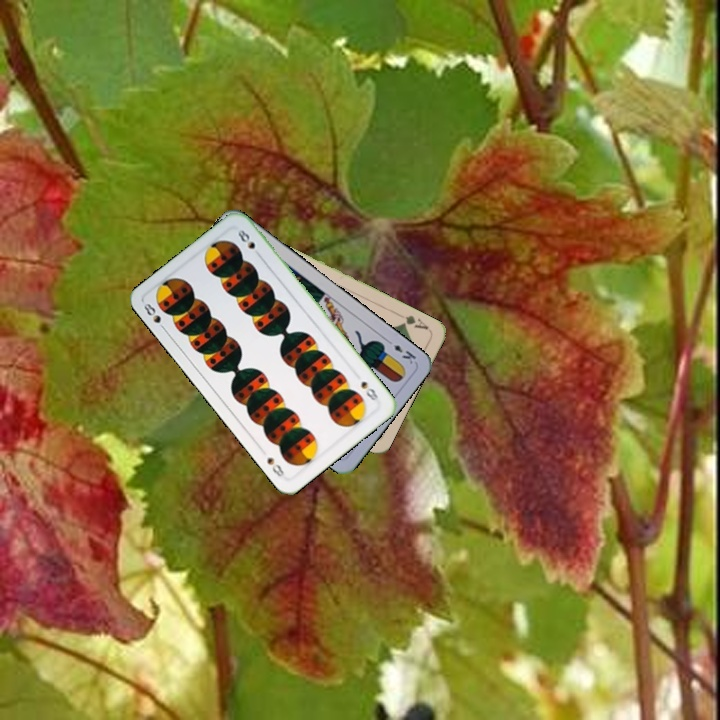EK: (382, 335, 419, 367)
GA: (394, 310, 431, 332)
S8: (140, 299, 169, 334), (357, 377, 383, 404)
